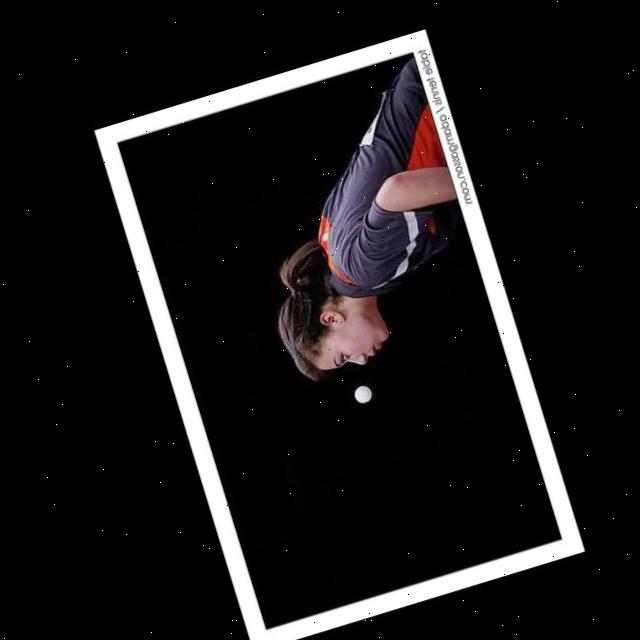ping-pong-ball: (350, 382, 375, 408)
